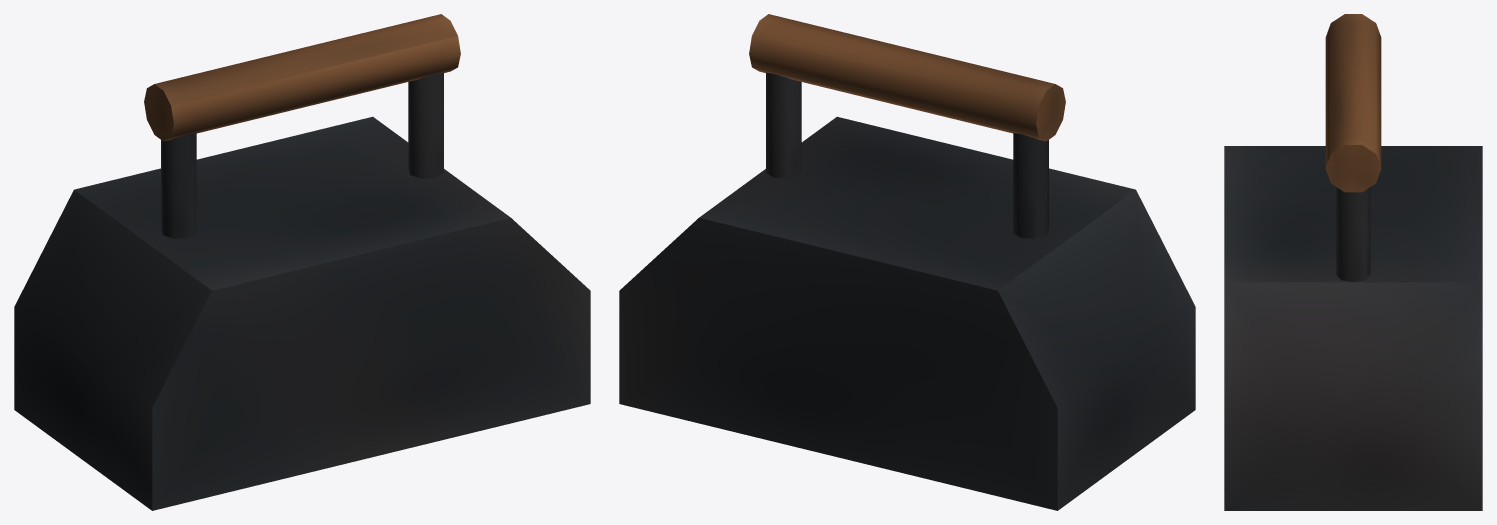
Rendered from Hold_Iron.fbx.
3 renders of one model, left to right at view 1: azimuth 30°, elevation 25°; view 2: azimuth 150°, elevation 25°; view 3: azimuth 270°, elevation 25°, orthographic. The views are drawn at different scales.
Visible parts, largest first — view 1: Hold_Iron; view 2: Hold_Iron; view 3: Hold_Iron.
Boxes of the visible parts, bbox=[...] form: Hold_Iron: bbox=[14, 14, 590, 510]; Hold_Iron: bbox=[619, 14, 1195, 510]; Hold_Iron: bbox=[1224, 14, 1482, 510].
Bounding box in the file's own units: 0.22 × 0.17 × 0.12.
Materials: 2 (2 with a texture image).
